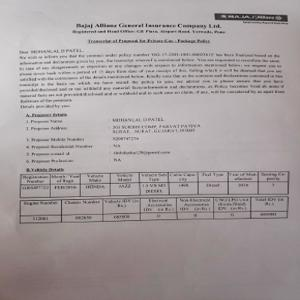image: (213, 11, 290, 25)
table: (23, 197, 289, 225), (19, 173, 288, 196)
text: (17, 49, 286, 110), (25, 112, 203, 164), (70, 19, 225, 45)
